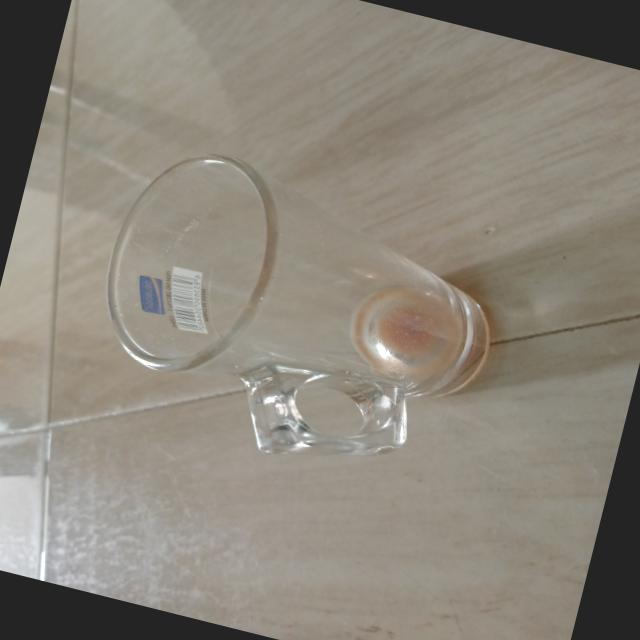glass-VX4N: (73, 132, 524, 500)
